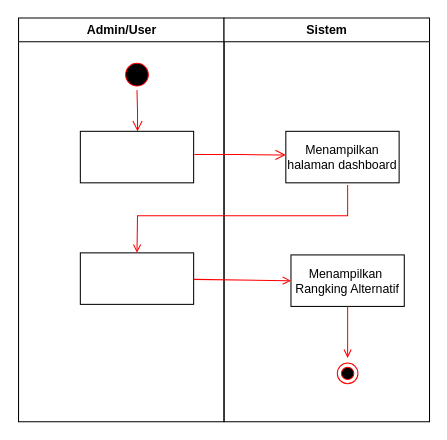
Some shapes in this 447 by 440 pixel diagram are drawn without their labels. Here are the shapes that lost their labels. From the top down, the box of each, then its label:
(79, 130, 194, 183): Masuk ke halaman admin
(79, 252, 194, 304): Masuk menu Hasil
